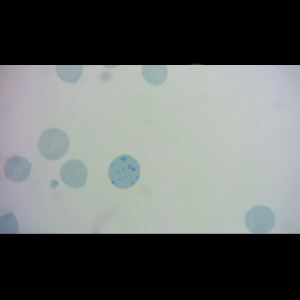aggregate reticulocyte: (107, 153, 142, 190)
erythrocyte: (59, 159, 89, 190)
punctate reticulocyte: (36, 128, 71, 161), (244, 204, 276, 234), (2, 155, 33, 183)
